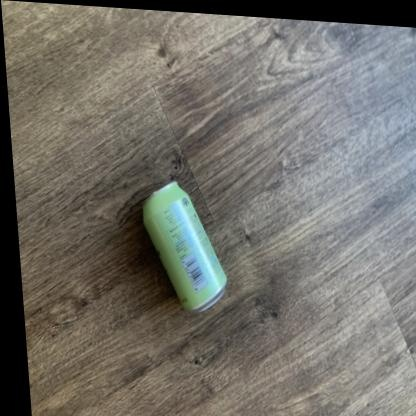trash: (143, 181, 226, 311)
